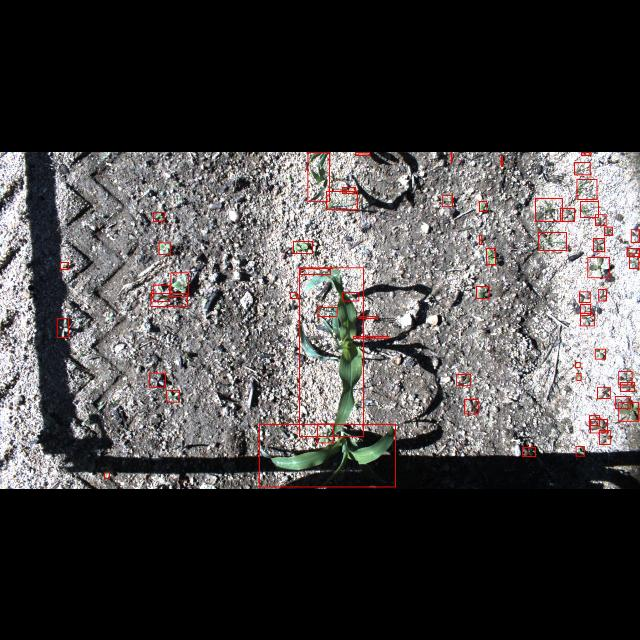crop: (299, 268, 363, 437), (258, 424, 396, 486), (308, 152, 330, 200), (356, 152, 370, 154)
weed: (327, 190, 358, 210), (536, 198, 562, 220), (150, 292, 188, 306), (538, 231, 566, 249), (588, 256, 608, 278), (170, 272, 188, 296), (577, 178, 597, 198), (618, 402, 638, 421), (153, 284, 170, 302), (317, 423, 333, 442), (580, 201, 598, 217), (590, 419, 608, 433), (57, 318, 69, 337), (149, 373, 165, 387), (464, 398, 478, 414), (294, 241, 312, 253), (580, 312, 594, 326), (560, 207, 574, 221), (614, 396, 630, 408), (574, 162, 590, 174), (318, 306, 337, 316), (300, 268, 330, 274), (457, 374, 471, 386), (618, 372, 632, 384), (598, 430, 610, 444), (486, 248, 496, 264), (629, 252, 639, 268), (167, 390, 180, 402), (476, 286, 489, 298), (598, 386, 610, 398), (594, 237, 604, 251), (630, 228, 640, 242), (343, 292, 359, 300), (620, 382, 634, 391), (522, 448, 536, 457), (160, 242, 170, 254), (594, 348, 606, 358), (580, 290, 590, 302), (626, 247, 640, 255), (596, 213, 606, 224), (442, 195, 452, 205), (589, 415, 599, 425), (581, 304, 591, 314), (598, 288, 606, 300), (342, 186, 356, 192), (479, 201, 487, 211), (576, 446, 584, 456), (154, 212, 164, 220), (353, 335, 389, 337), (60, 261, 68, 269), (604, 226, 612, 234), (358, 316, 378, 318), (104, 472, 110, 478), (290, 292, 296, 298), (577, 374, 581, 381), (576, 362, 580, 368), (581, 152, 591, 154), (480, 234, 482, 243), (451, 152, 452, 162), (502, 155, 502, 165)
